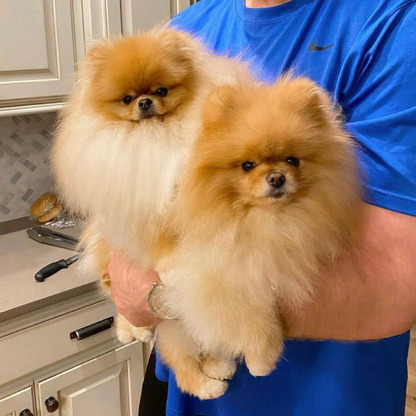Pomeranian: (180, 97, 372, 374), (73, 25, 206, 214)
